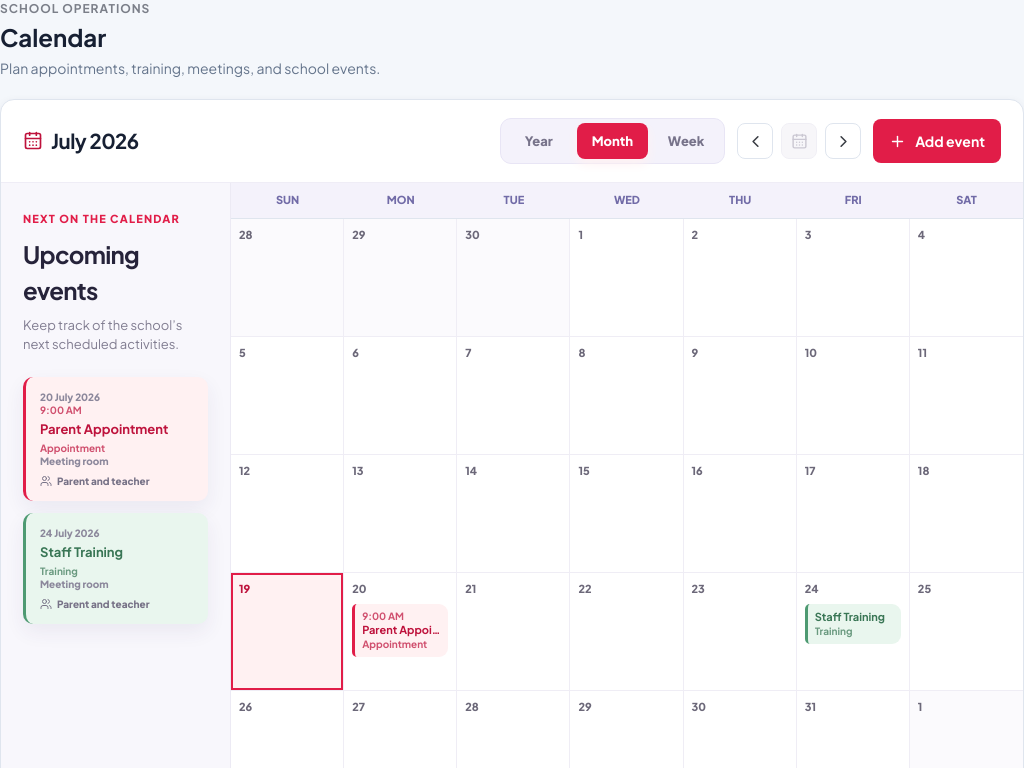
Test: CalendarPage › mounts one modal and Escape returns to unsaved edit values
Click the button "9:00 AM Parent Appointment Appointment" at (400,631), box x1=352 y1=604 x2=448 y2=657
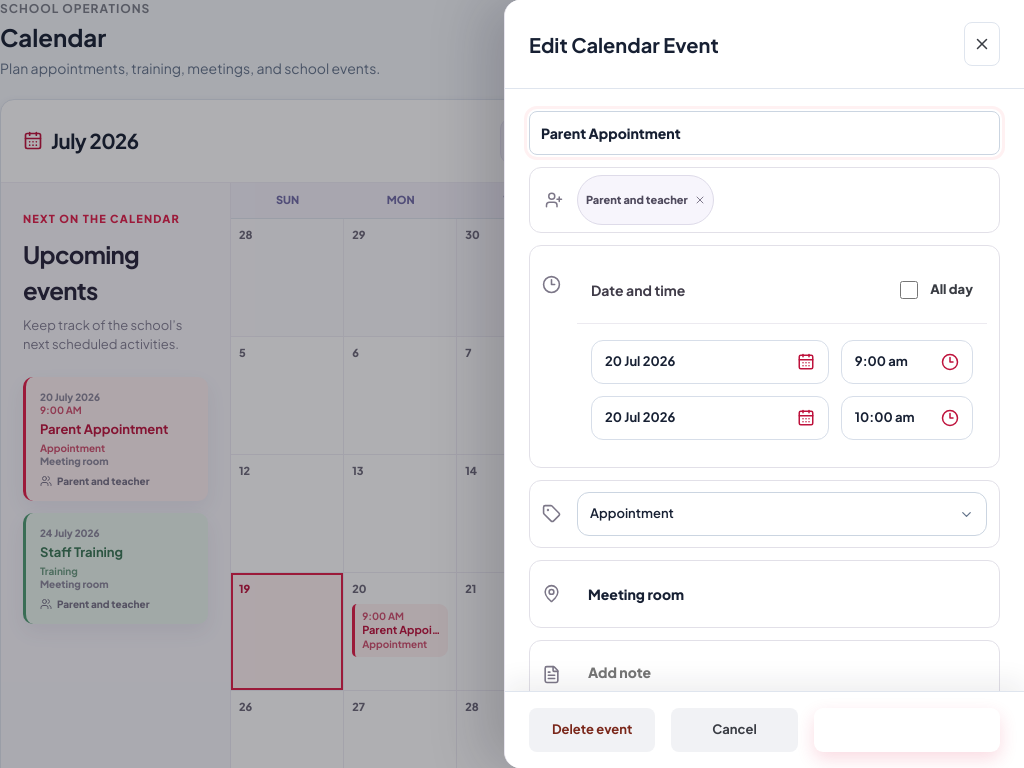
Replace the text in the field named "title" with "Unsaved Parent Appointment" at (764,133), box x1=529 y1=111 x2=1000 y2=155
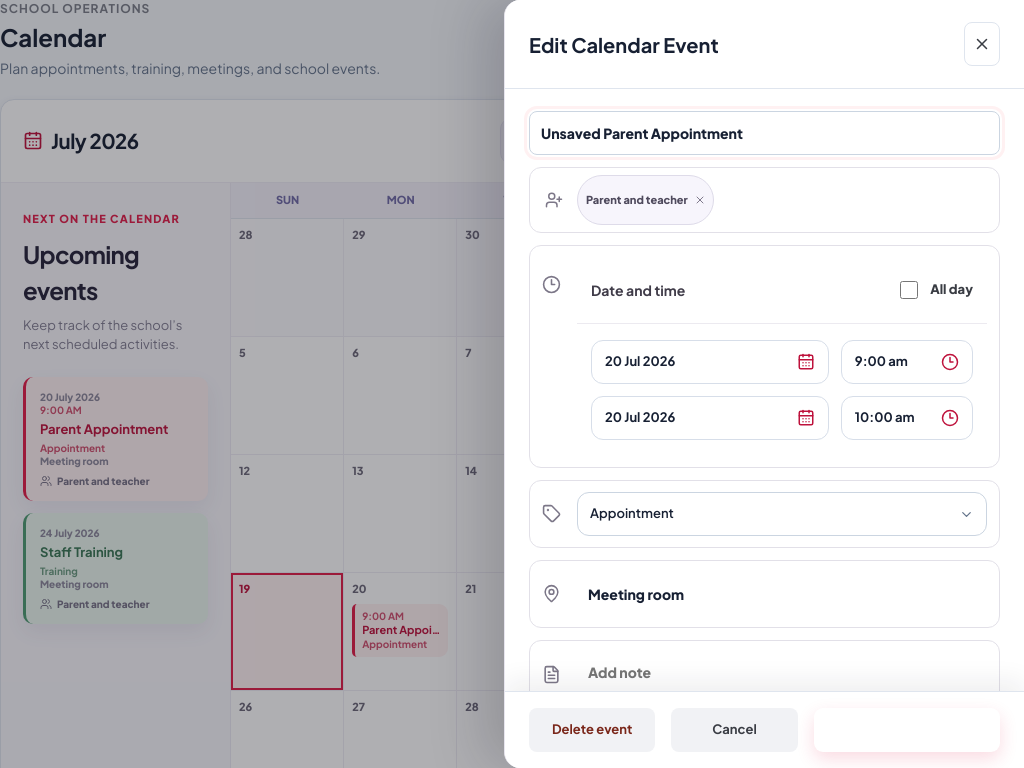
Click the button "Delete event" at (592,730), box x1=529 y1=708 x2=655 y2=752
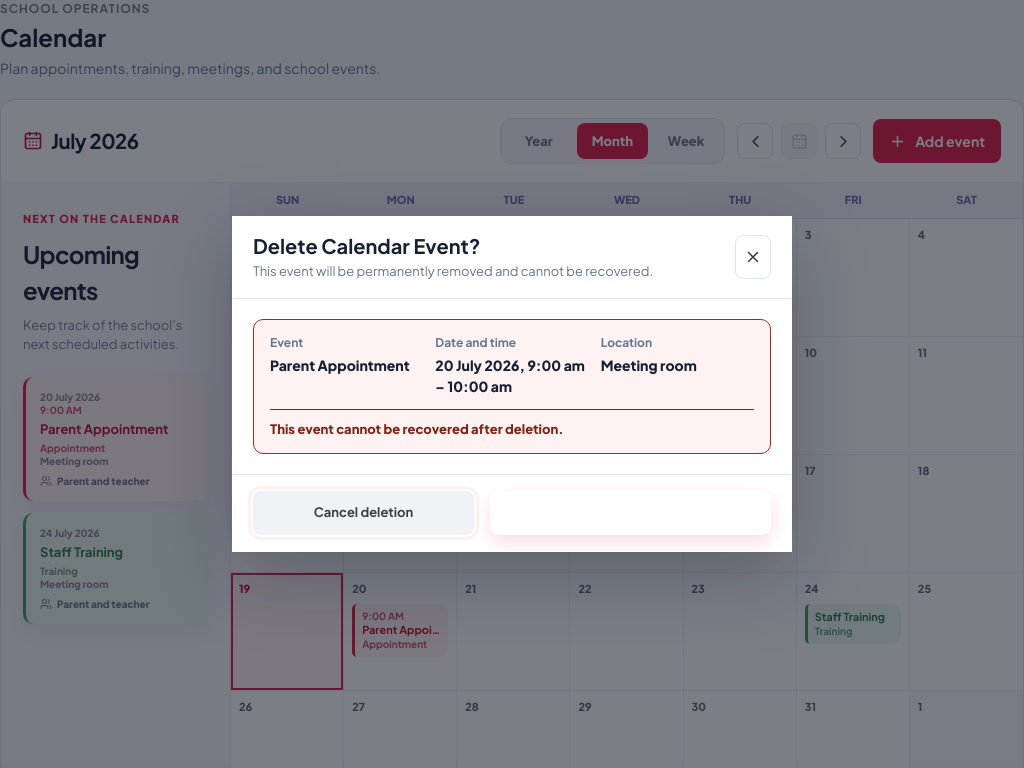
Now the number of dialogs is 1, box x1=232 y1=216 x2=792 y2=552
Press Escape
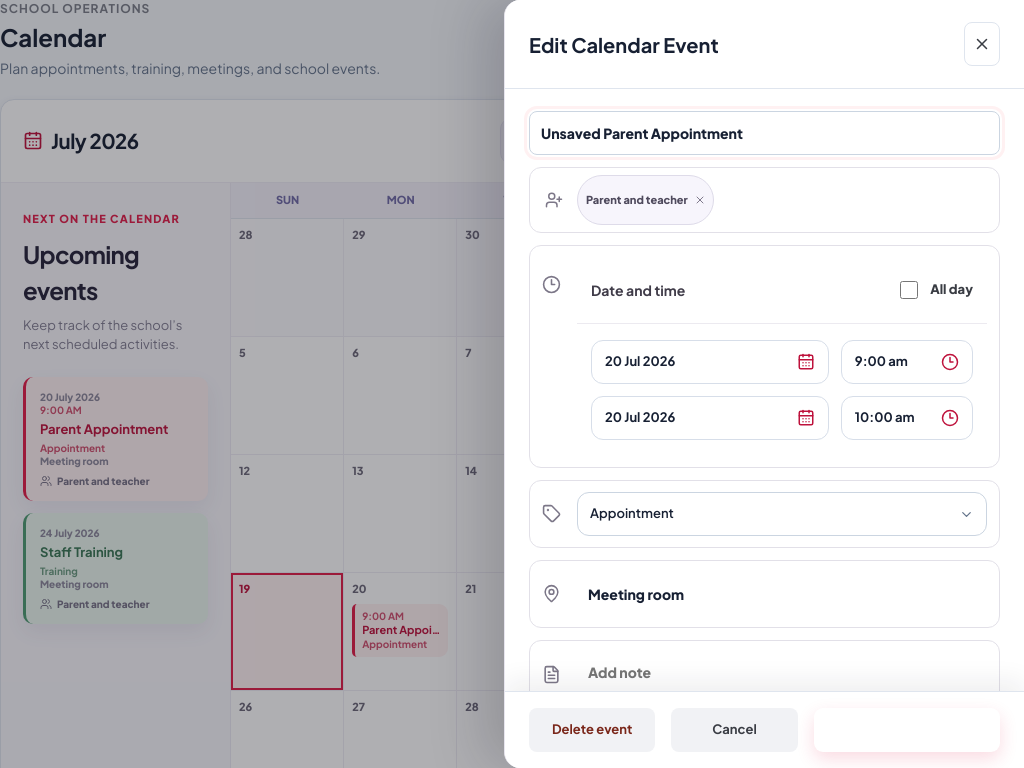
Now the number of dialogs is 1, box x1=504 y1=0 x2=1023 y2=767
Now the field named "title" holds "Unsaved Parent Appointment", box x1=529 y1=111 x2=1000 y2=155
